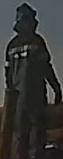gloves: (51, 83, 61, 106)
vest: (6, 33, 49, 107)
